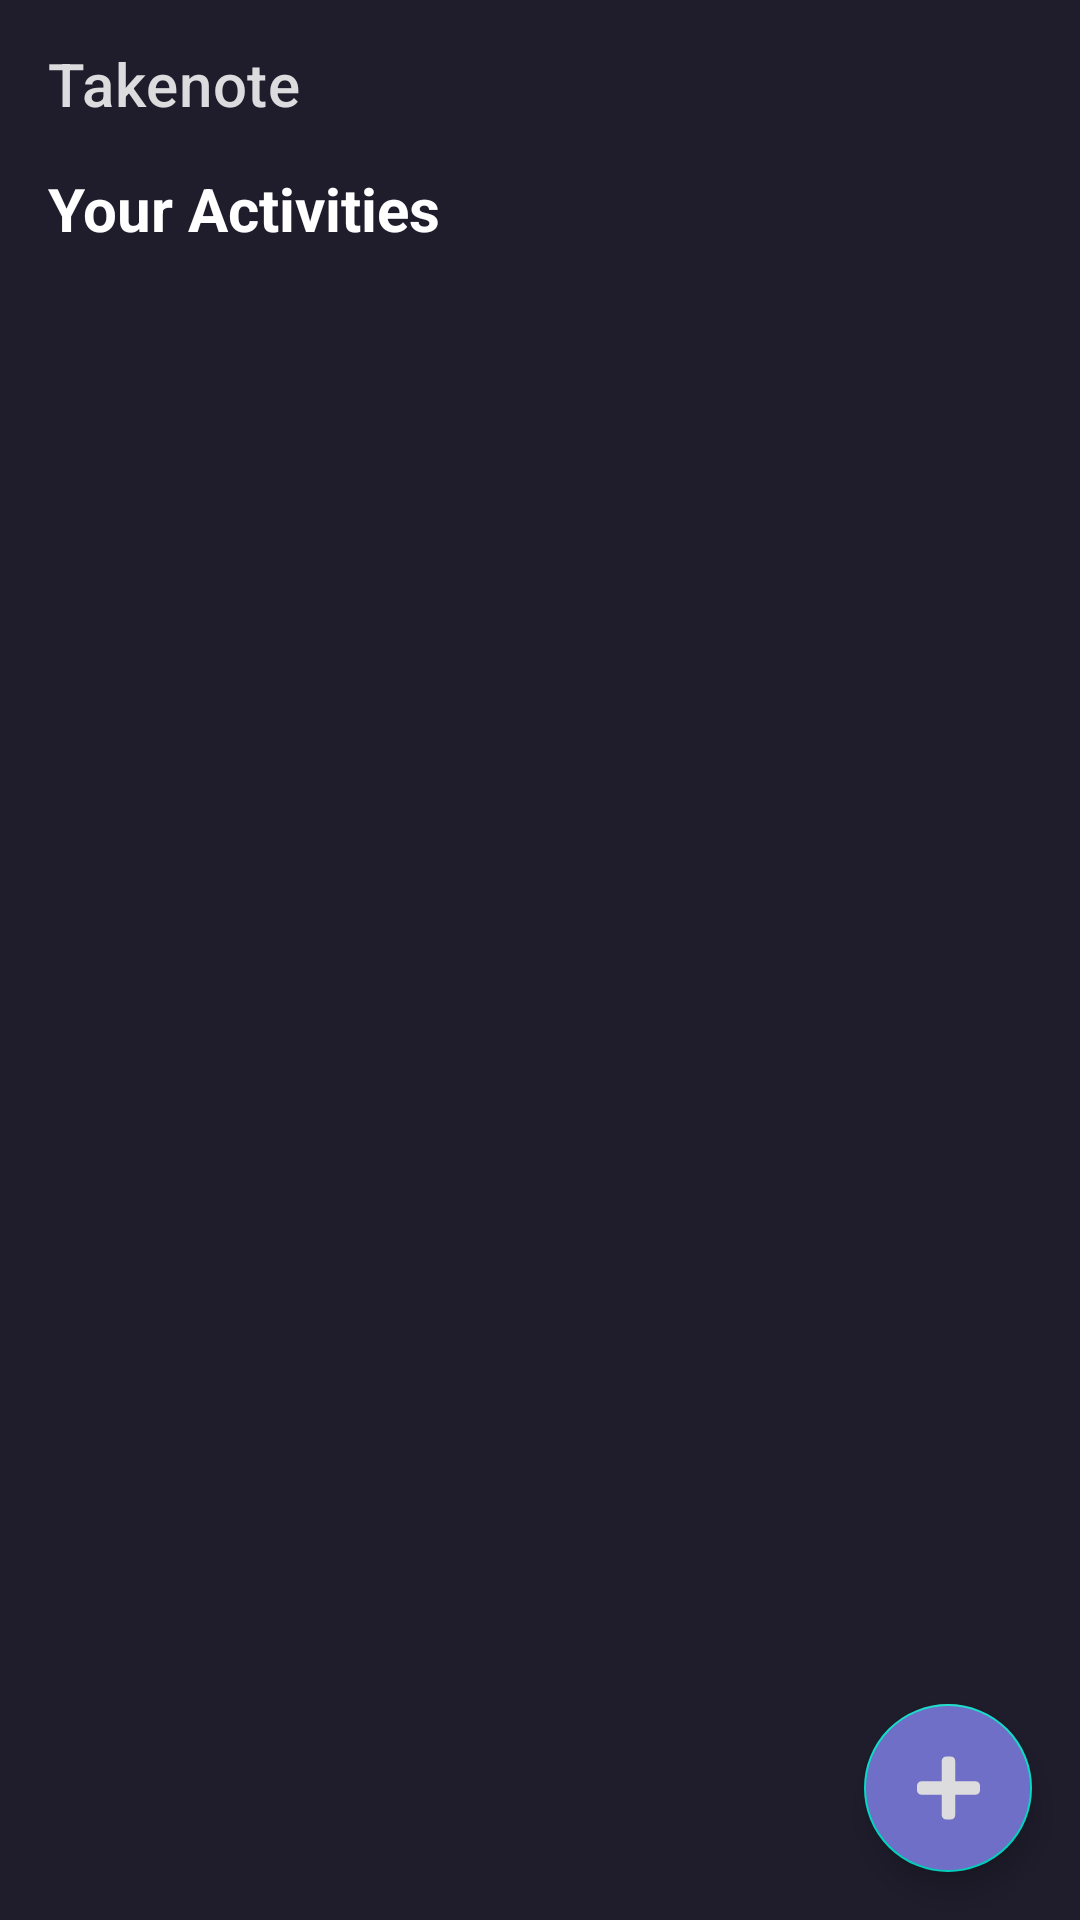

Icon bounding boxes for this 1080w x 1920h phone screenshot, format detection(x1, y1, x2, y2):
plus: detection(864, 1704, 1032, 1872)
